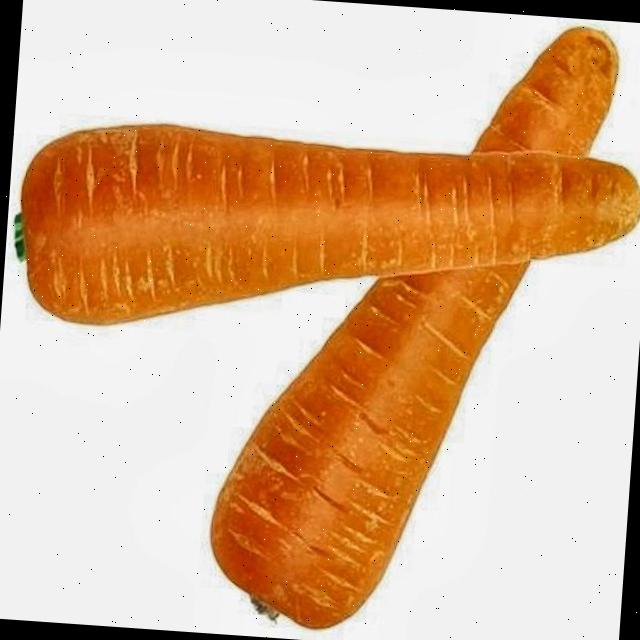carrot: (210, 26, 617, 626), (20, 125, 640, 323)
